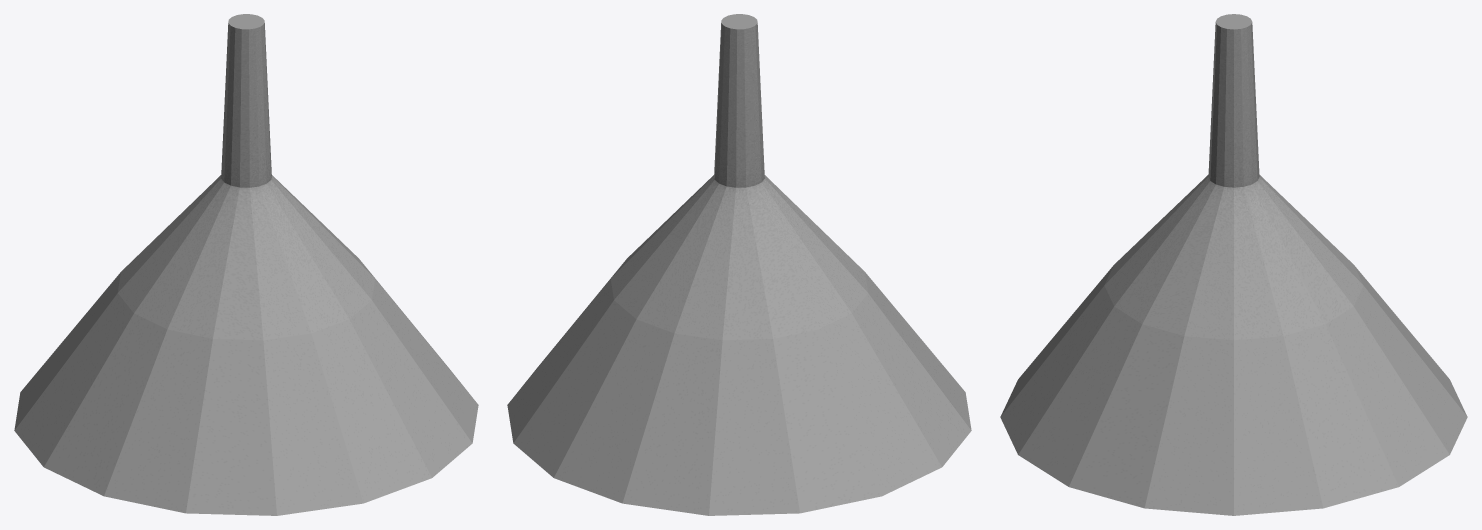
The model's file is Potion.fbx.
The picture shows the model from 3 angles, left to right: view 1: azimuth 30°, elevation 25°; view 2: azimuth 150°, elevation 25°; view 3: azimuth 270°, elevation 25°; orthographic projection.
Parts seen in each view (by area): view 1: Cylinder; view 2: Cylinder; view 3: Cylinder.
Part boxes in pixels (<box>): Cylinder: <box>14,14,478,515</box>; Cylinder: <box>507,14,971,515</box>; Cylinder: <box>1000,14,1467,515</box>.
Size of the model in its own units: 69.2 by 64.6 by 69.2.
